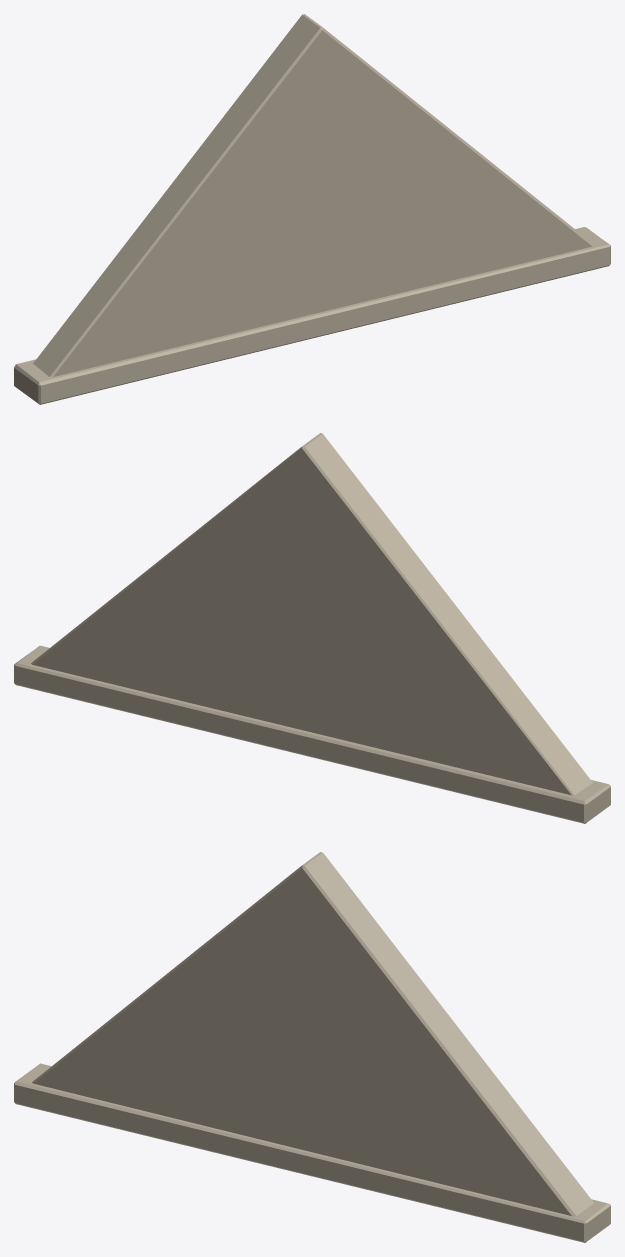
File: gable_r8.fbx
3 renders of one model, top to bottom at view 1: azimuth 30°, elevation 25°; view 2: azimuth 150°, elevation 25°; view 3: azimuth 330°, elevation 25°, orthographic.
Visible parts, largest first — view 1: gable_r8; view 2: gable_r8; view 3: gable_r8.
Boxes of the visible parts, x1,y1,x2,y2 form: gable_r8: (14,14,610,404); gable_r8: (14,433,610,823); gable_r8: (14,852,610,1242).
Bounding box in the file's own units: 1640 × 836 × 130.
